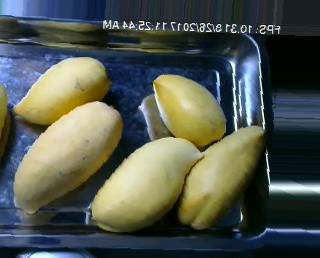Mango: (15, 101, 119, 216), (88, 132, 201, 233), (179, 123, 266, 234), (141, 67, 232, 150), (19, 52, 110, 124)
